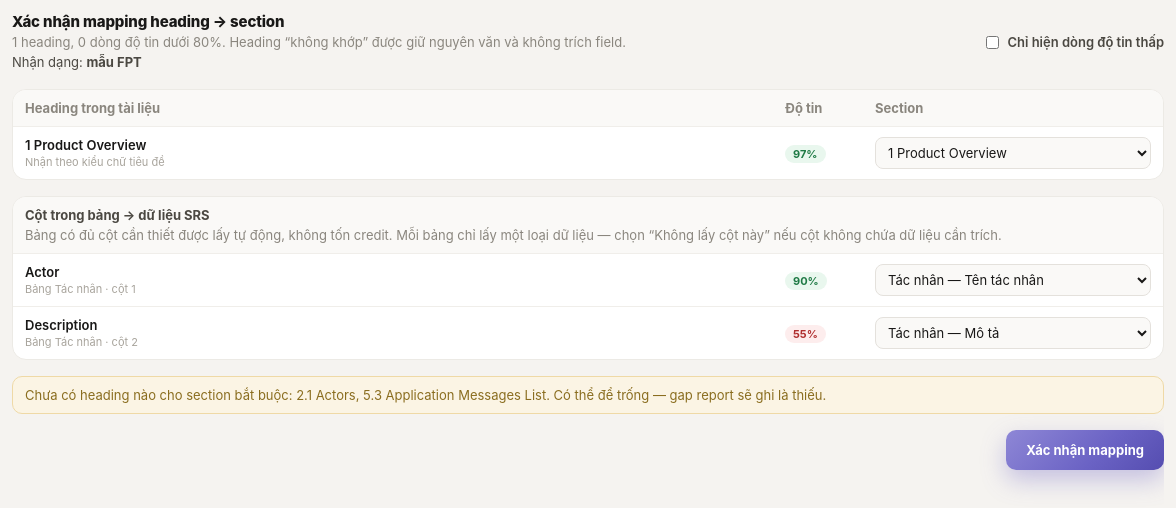
Test: MappingReviewTable — xác nhận mapping heading → section (UC-21, 1.7) › không có dòng độ tin thấp ⇒ mặc định hiện hết; bật lọc thì báo không có dòng nào
The width and height of the screenshot is (1176, 508).
Expected: the text "1 Product Overview" is shown, x1=25 y1=137 x2=146 y2=153
Step 1. Click the checkbox labelled "Chỉ hiện dòng độ tin thấp" → (993, 42), box x1=986 y1=36 x2=999 y2=49
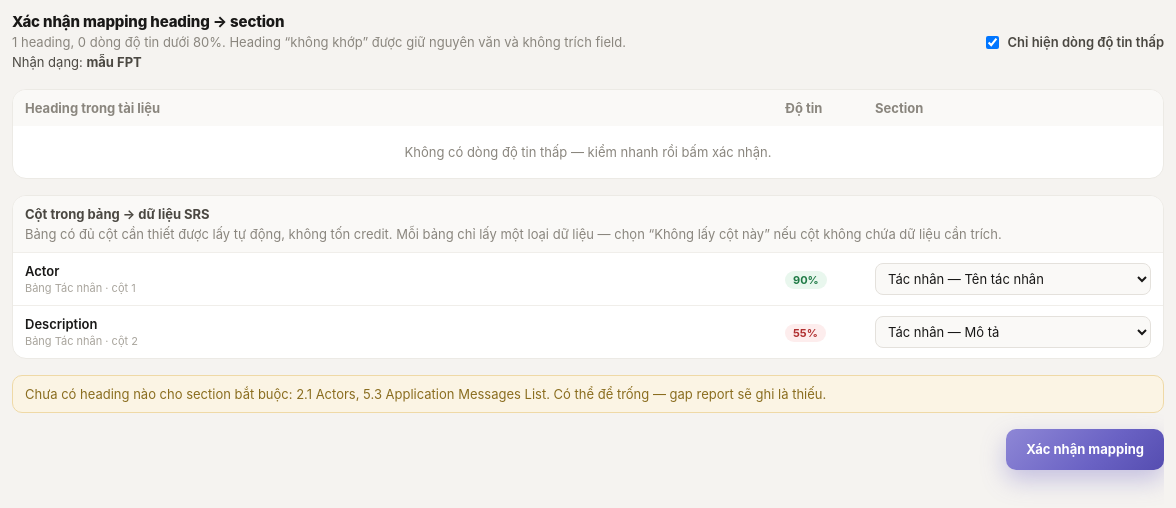
Result: the text "Không có dòng độ tin thấp — kiểm nhanh rồi bấm xác nhận." is shown at x1=13 y1=126 x2=1163 y2=178
